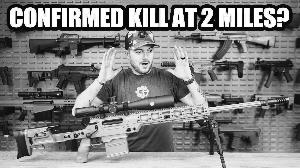sniper: (13, 95, 287, 162)
